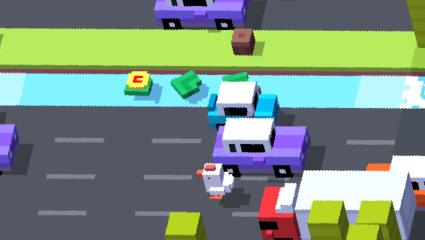hen: (197, 163, 235, 200)
obstacle: (309, 170, 414, 234), (212, 118, 307, 174), (208, 82, 279, 124), (153, 0, 251, 30), (260, 184, 297, 235), (358, 200, 402, 240), (309, 200, 349, 239), (392, 155, 425, 192), (166, 213, 207, 240), (0, 123, 18, 175), (231, 29, 255, 55), (348, 224, 384, 240), (365, 164, 391, 171)
timber: (172, 71, 202, 99), (123, 71, 150, 95), (223, 72, 249, 82)
